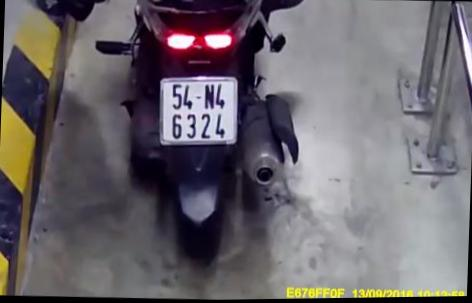LP: (155, 73, 242, 148)
